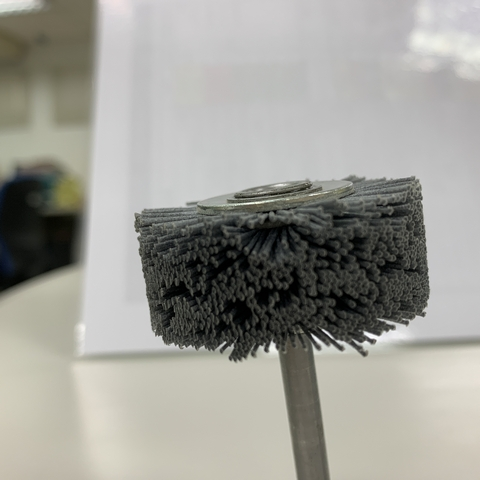Wheel Brush: (132, 169, 432, 471), (132, 195, 429, 465)
